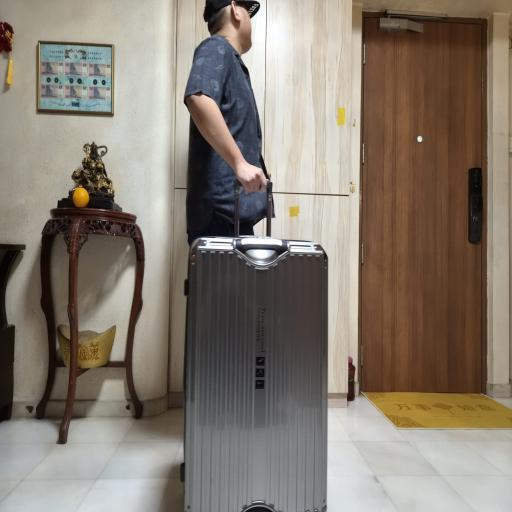person_right: (173, 0, 336, 507)
